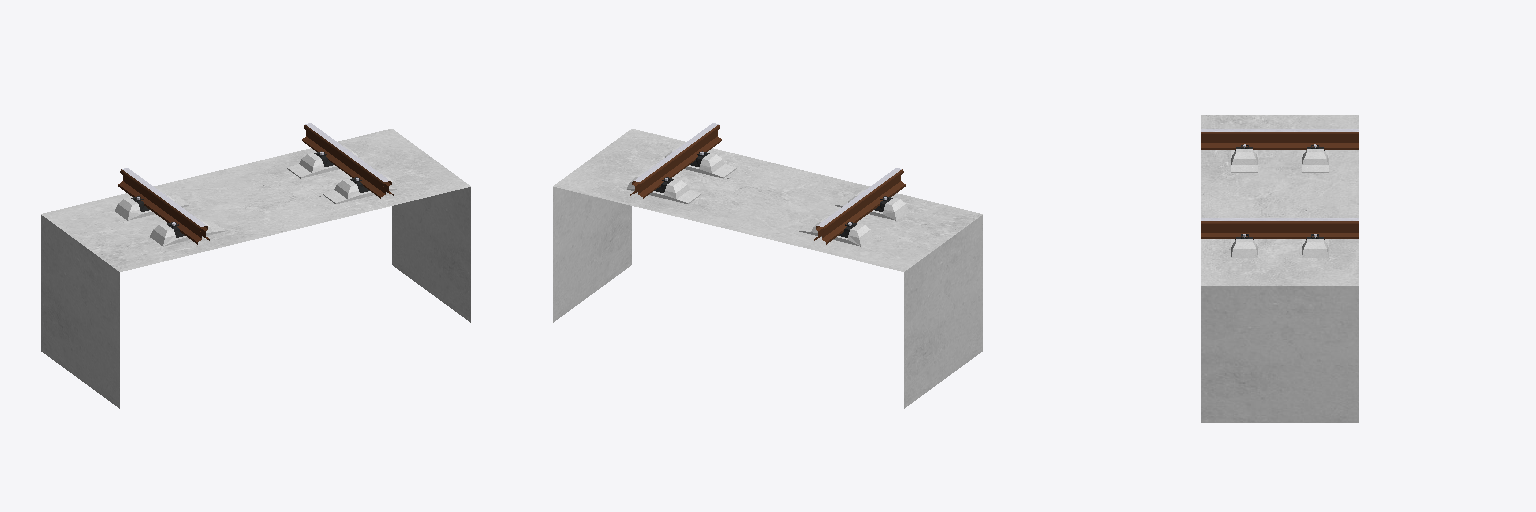
3 views of the same model, side by side, from view 1: azimuth 30°, elevation 25°; view 2: azimuth 150°, elevation 25°; view 3: azimuth 270°, elevation 25° (orthographic).
Visible parts, largest first — view 1: cuboid; view 2: cuboid; view 3: cuboid.
Boxes of the visible parts, box(x1,y1,x2,y2) form: cuboid: box(41, 123, 470, 408); cuboid: box(553, 123, 982, 408); cuboid: box(1201, 115, 1358, 422).
Size of the model in its own units: 2.88 by 1.27 by 1.12.
5 materials, 4 textured.